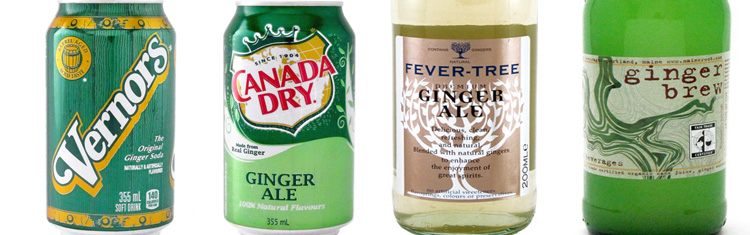Lata: (215, 1, 356, 233)
